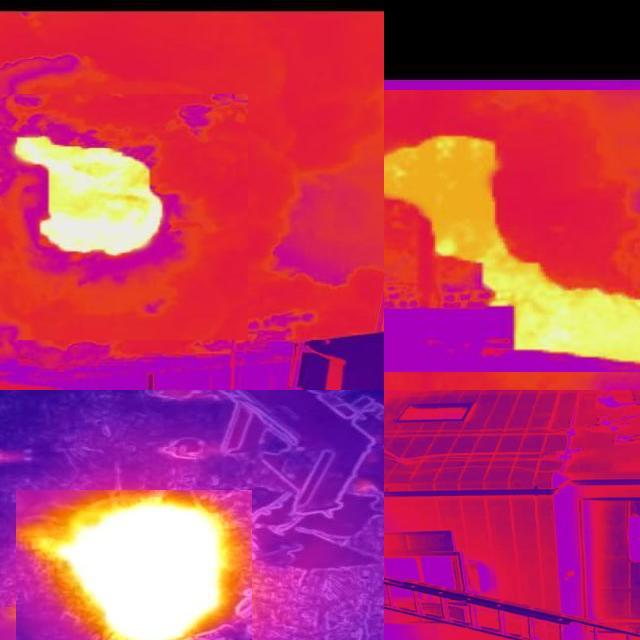fire: (385, 135, 636, 373), (43, 496, 250, 638), (2, 131, 164, 266)
